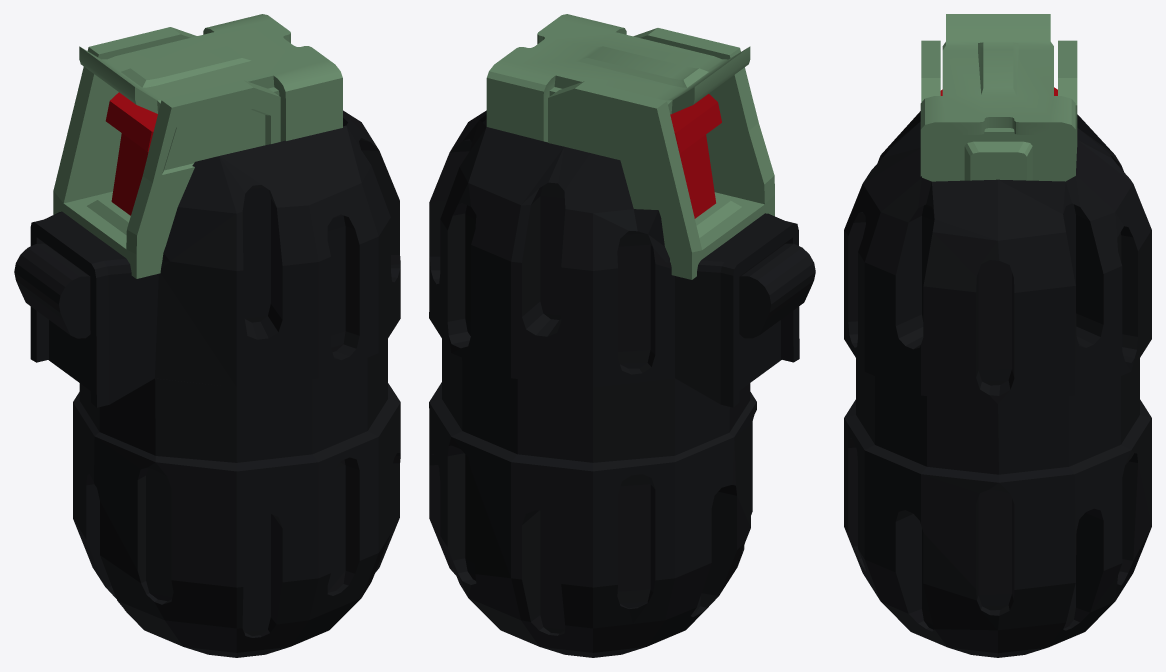
The model's file is Grenade_2.fbx.
3 renders of one model, left to right at view 1: azimuth 30°, elevation 25°; view 2: azimuth 150°, elevation 25°; view 3: azimuth 270°, elevation 25°, orthographic. The views are drawn at different scales.
Parts seen in each view (by area): view 1: Corps, Protection_Déclencheur, Sécurité_Déclencheur, Support_Goupille, Déclencheur; view 2: Corps, Protection_Déclencheur, Sécurité_Déclencheur, Support_Goupille, Déclencheur; view 3: Corps, Sécurité_Déclencheur, Protection_Déclencheur_2, Protection_Déclencheur.
Boxes of the visible parts, left/top/right/bottom form: Corps: left=30, top=110, right=400, bottom=657; Protection_Déclencheur: left=53, top=27, right=280, bottom=278; Sécurité_Déclencheur: left=79, top=14, right=342, bottom=141; Support_Goupille: left=14, top=243, right=90, bottom=338; Déclencheur: left=105, top=92, right=157, bottom=215; Corps: left=429, top=110, right=799, bottom=657; Protection_Déclencheur: left=548, top=28, right=774, bottom=279; Sécurité_Déclencheur: left=486, top=14, right=750, bottom=142; Support_Goupille: left=739, top=243, right=815, bottom=338; Déclencheur: left=670, top=94, right=721, bottom=218; Corps: left=844, top=111, right=1151, bottom=657; Sécurité_Déclencheur: left=920, top=14, right=1075, bottom=179; Protection_Déclencheur_2: left=933, top=128, right=1063, bottom=181; Protection_Déclencheur: left=921, top=40, right=1077, bottom=181.
Size of the model in its own units: 14.07 by 23.53 by 11.68.
